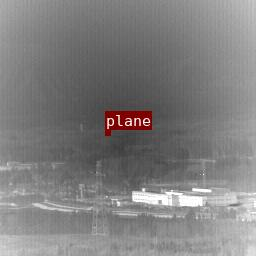plane: (105, 130, 110, 134)
